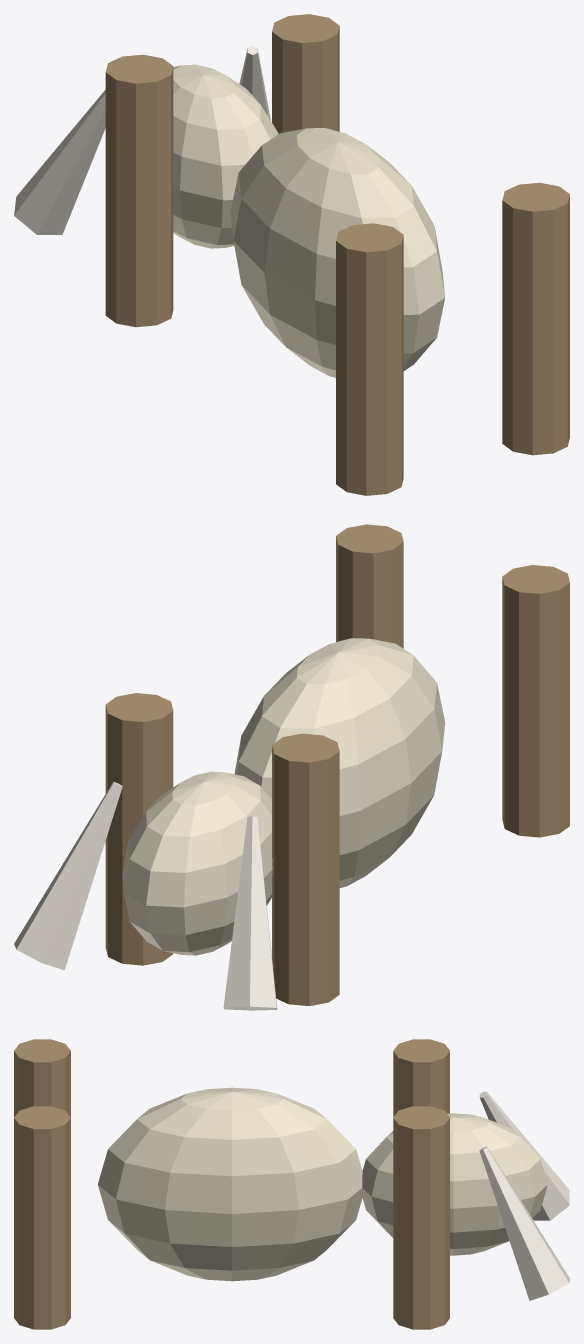
File: animal_domba.glb
The picture shows the model from 3 angles, top to bottom: view 1: azimuth 30°, elevation 25°; view 2: azimuth 150°, elevation 25°; view 3: azimuth 270°, elevation 25°; orthographic projection. The views are drawn at different scales.
Parts seen in each view (by area): view 1: domba_body.002, domba_leg_FL.002, domba_leg_BL.002, domba_leg_BR.002, domba_head.002, domba_leg_FR.002, domba_tanduk_kanan.002, domba_tanduk_kiri.002; view 2: domba_body.002, domba_head.002, domba_leg_BL.002, domba_leg_FL.002, domba_leg_FR.002, domba_leg_BR.002, domba_tanduk_kiri.002, domba_tanduk_kanan.002; view 3: domba_body.002, domba_leg_FR.002, domba_leg_BR.002, domba_head.002, domba_tanduk_kiri.002, domba_leg_BL.002, domba_leg_FL.002, domba_tanduk_kanan.002.
Part boxes in pixels (bbox=[...]): domba_body.002: bbox=[230, 128, 445, 377]; domba_leg_FL.002: bbox=[105, 54, 173, 327]; domba_leg_BL.002: bbox=[336, 223, 403, 495]; domba_leg_BR.002: bbox=[502, 182, 569, 455]; domba_head.002: bbox=[173, 64, 278, 248]; domba_leg_FR.002: bbox=[272, 14, 339, 133]; domba_tanduk_kanan.002: bbox=[14, 90, 105, 234]; domba_tanduk_kiri.002: bbox=[239, 46, 270, 120]; domba_body.002: bbox=[234, 638, 445, 887]; domba_head.002: bbox=[122, 771, 272, 955]; domba_leg_BL.002: bbox=[502, 565, 569, 837]; domba_leg_FL.002: bbox=[272, 733, 339, 1006]; domba_leg_FR.002: bbox=[105, 693, 173, 965]; domba_leg_BR.002: bbox=[336, 524, 403, 648]; domba_tanduk_kiri.002: bbox=[14, 781, 122, 970]; domba_tanduk_kanan.002: bbox=[223, 816, 277, 1010]; domba_body.002: bbox=[98, 1087, 362, 1281]; domba_leg_FR.002: bbox=[393, 1106, 449, 1329]; domba_leg_BR.002: bbox=[14, 1106, 70, 1329]; domba_head.002: bbox=[362, 1113, 547, 1255]; domba_tanduk_kiri.002: bbox=[479, 1146, 569, 1300]; domba_leg_BL.002: bbox=[14, 1039, 70, 1117]; domba_leg_FL.002: bbox=[393, 1039, 449, 1116]; domba_tanduk_kanan.002: bbox=[479, 1091, 569, 1220].
Bounding box in the file's own units: 0.7902 × 0.7 × 1.76.
